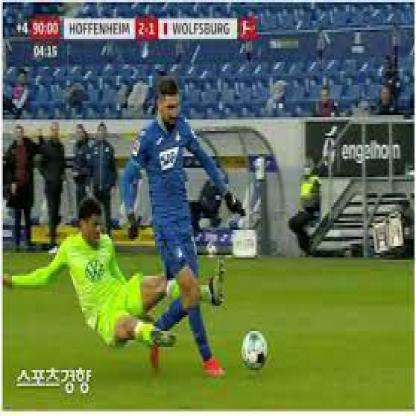Fall_Down: (6, 193, 226, 349)
